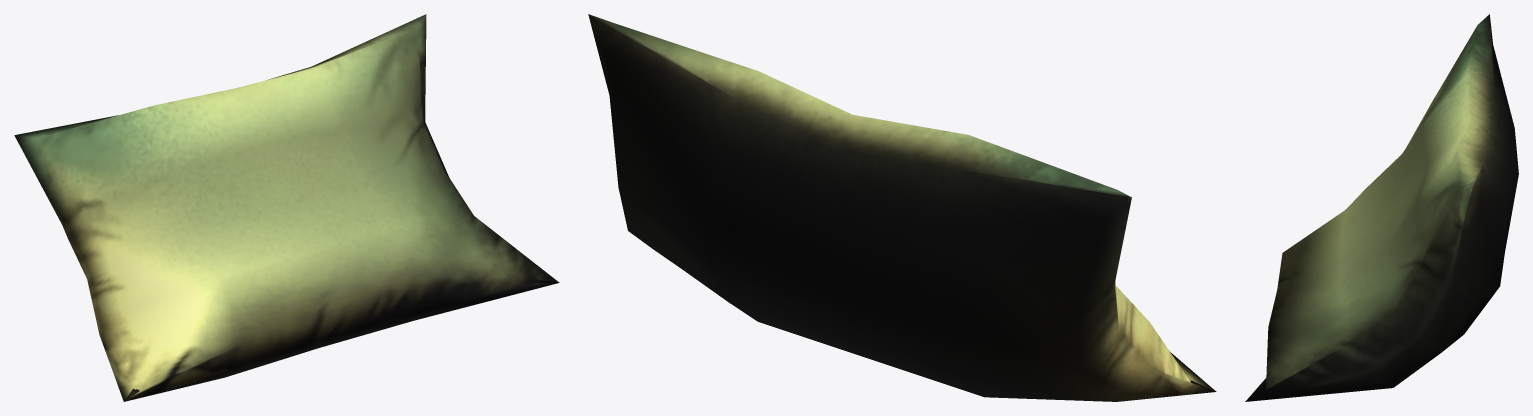
The model's file is travesseiro1.fbx.
3 renders of one model, left to right at view 1: azimuth 30°, elevation 25°; view 2: azimuth 150°, elevation 25°; view 3: azimuth 270°, elevation 25°, orthographic. The views are drawn at different scales.
Parts seen in each view (by area): view 1: travesseiro1; view 2: travesseiro1; view 3: travesseiro1.
Boxes of the visible parts, x1,y1,x2,y2 form: travesseiro1: [14, 14, 559, 401]; travesseiro1: [588, 14, 1216, 401]; travesseiro1: [1245, 14, 1518, 401].
Size of the model in its own units: 54.81 by 30.62 by 29.33.
1 material, 1 textured.
